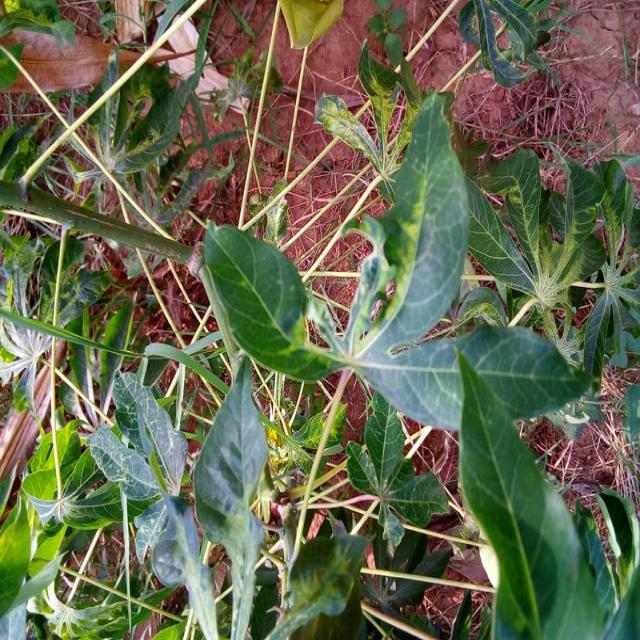cassava leaf: (452, 326, 606, 638), (346, 90, 470, 360), (200, 218, 344, 380), (192, 353, 269, 638)
